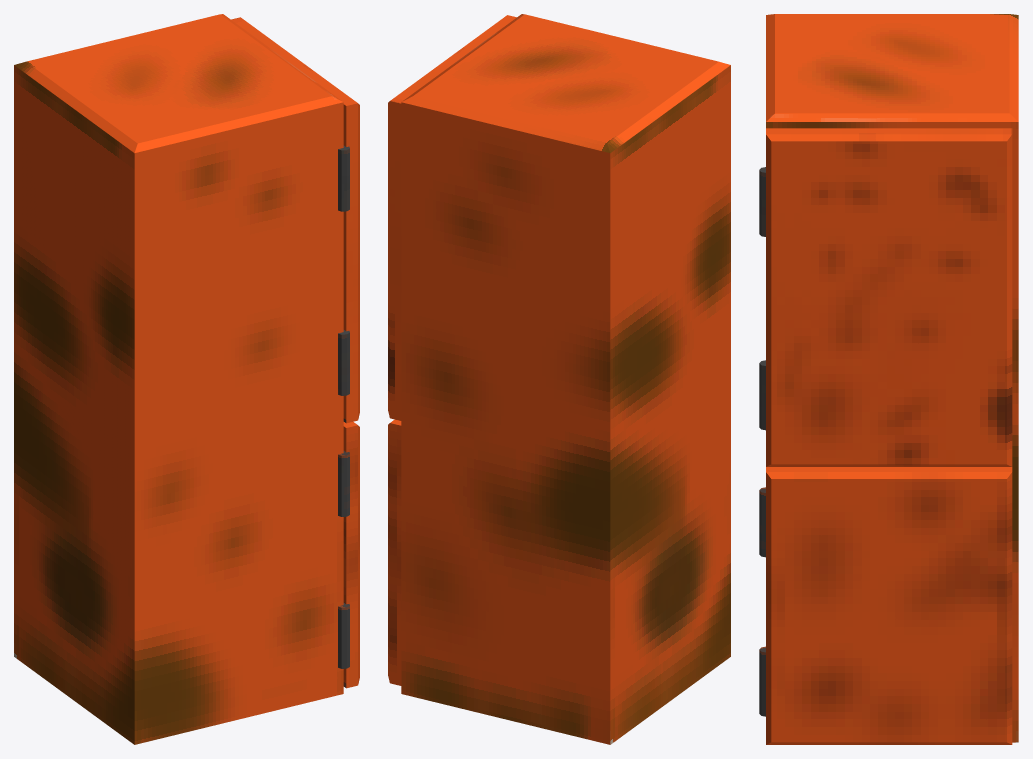
File: fridge.glb
The picture shows the model from 3 angles, left to right: view 1: azimuth 30°, elevation 25°; view 2: azimuth 150°, elevation 25°; view 3: azimuth 270°, elevation 25°; orthographic projection. The views are drawn at different scales.
Parts seen in each view (by area): view 1: FridgeBody, UpperDoor, LowerDoor; view 2: FridgeBody, UpperDoor, LowerDoor; view 3: UpperDoor, LowerDoor, FridgeBody.
Part boxes in pixels (bbox=[...]): FridgeBody: bbox=[14, 14, 343, 744]; UpperDoor: bbox=[231, 17, 359, 423]; LowerDoor: bbox=[338, 422, 359, 688]; FridgeBody: bbox=[401, 14, 730, 744]; UpperDoor: bbox=[388, 15, 516, 420]; LowerDoor: bbox=[388, 419, 401, 685]; UpperDoor: bbox=[759, 128, 1012, 466]; LowerDoor: bbox=[759, 467, 1012, 744]; FridgeBody: bbox=[766, 14, 1018, 742].
Size of the model in its own units: 0.7787 by 1.95 by 0.7321.
38 materials, 38 textured.
